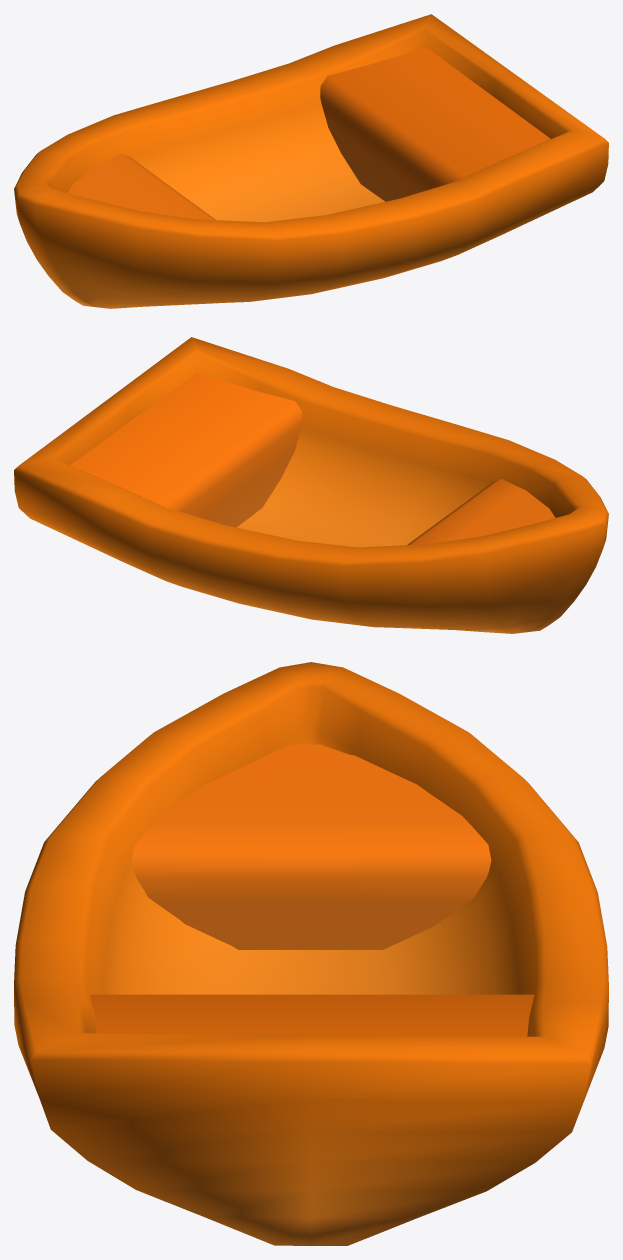
File: Props_Wooden_Boat_01.fbx
The picture shows the model from 3 angles, top to bottom: view 1: azimuth 30°, elevation 25°; view 2: azimuth 150°, elevation 25°; view 3: azimuth 270°, elevation 25°; orthographic projection. The views are drawn at different scales.
Visible parts, largest first — view 1: Props_Wooden_Boat_01; view 2: Props_Wooden_Boat_01; view 3: Props_Wooden_Boat_01.
Part boxes in pixels (left/top/right/bottom): Props_Wooden_Boat_01: left=14, top=14, right=608, bottom=308; Props_Wooden_Boat_01: left=14, top=337, right=608, bottom=633; Props_Wooden_Boat_01: left=14, top=662, right=608, bottom=1245.
Size of the model in its own units: 198 by 55.67 by 127.
